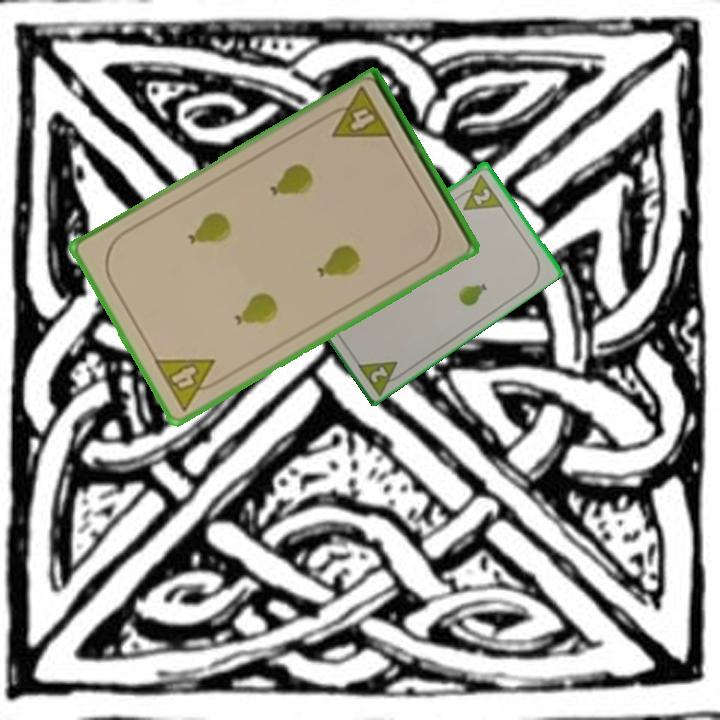2p: (452, 170, 505, 213), (353, 357, 408, 397)
4p: (150, 355, 228, 414), (320, 83, 395, 142)
